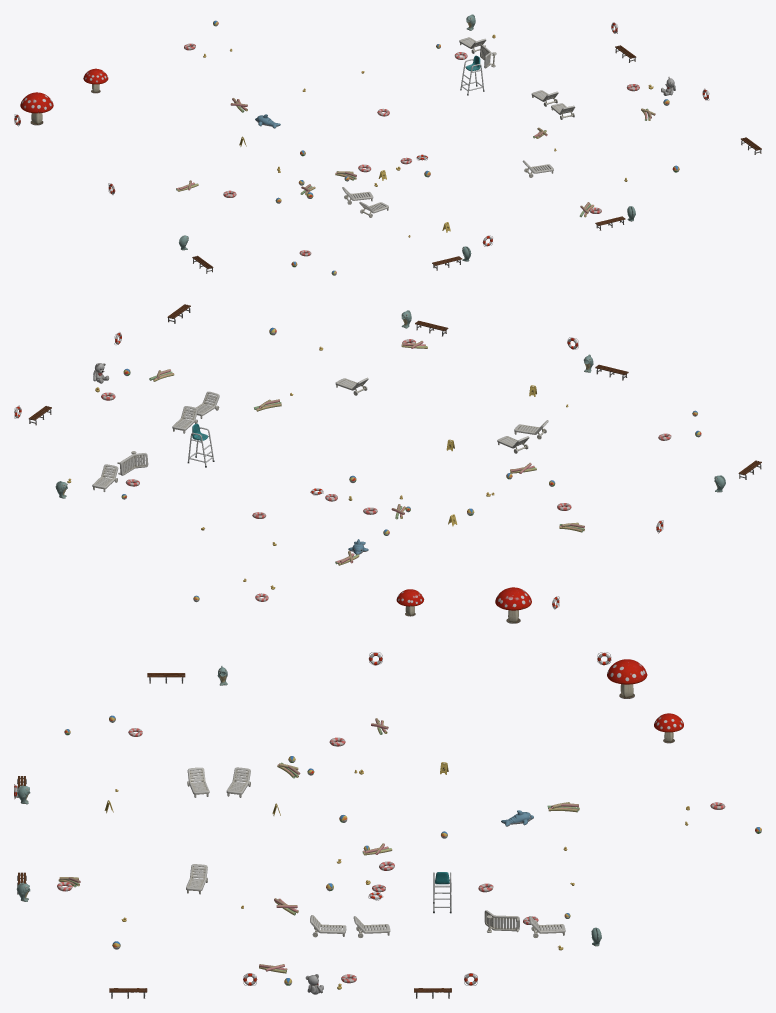
The model's file is sala_oggetti.glb.
The picture shows the model from 3 angles, top to bottom: view 1: azimuth 30°, elevation 25°; view 2: azimuth 150°, elevation 25°; view 3: azimuth 270°, elevation 25°; orthographic projection. The views are drawn at different scales.
Parts seen in each view (by area): view 1: ogg_fungo_fontana_27; view 2: ogg_fungo_fontana_27; view 3: ogg_fungo_fontana_27, ogg_lettino_plastica_23, ogg_fungo_fontana_28.
Boxes of the visible parts, box(x1,y1,x2,y2) form: ogg_fungo_fontana_27: box(20, 92, 53, 125); ogg_fungo_fontana_27: box(495, 587, 531, 623); ogg_fungo_fontana_27: box(607, 659, 647, 698); ogg_lettino_plastica_23: box(484, 910, 519, 932); ogg_fungo_fontana_28: box(654, 713, 683, 743).
Size of what is drawn, in the model's own units: 40 by 4.5 by 39.28.
13 materials, 13 textured.
